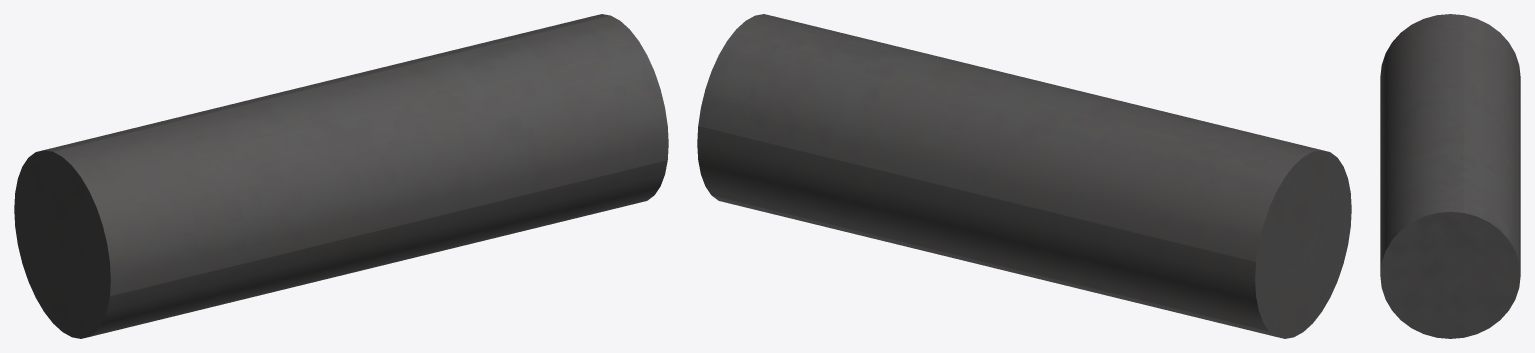
The model's file is stand__right_pivot_pin.glb.
3 views of the same model, side by side, from view 1: azimuth 30°, elevation 25°; view 2: azimuth 150°, elevation 25°; view 3: azimuth 270°, elevation 25° (orthographic). The views are drawn at different scales.
Parts seen in each view (by area): view 1: geometry_0; view 2: geometry_0; view 3: geometry_0.
Boxes of the visible parts, x1,y1,x2,y2 form: geometry_0: (14,14,668,338); geometry_0: (697,14,1351,338); geometry_0: (1380,14,1520,338).
Bounding box in the file's own units: 0.08 × 0.024 × 0.024.
1 material, 1 textured.
